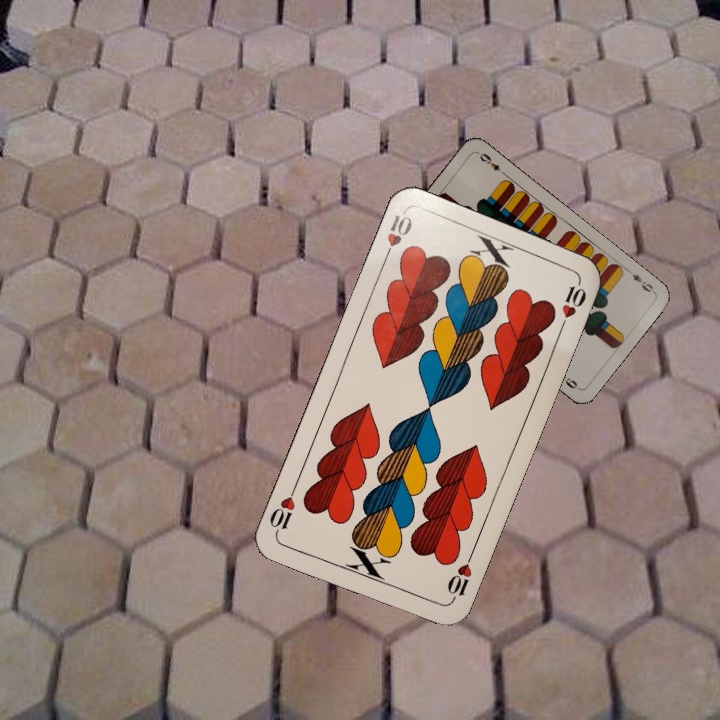E9: (623, 265, 657, 296)
H10: (379, 208, 415, 265), (443, 548, 476, 605)
